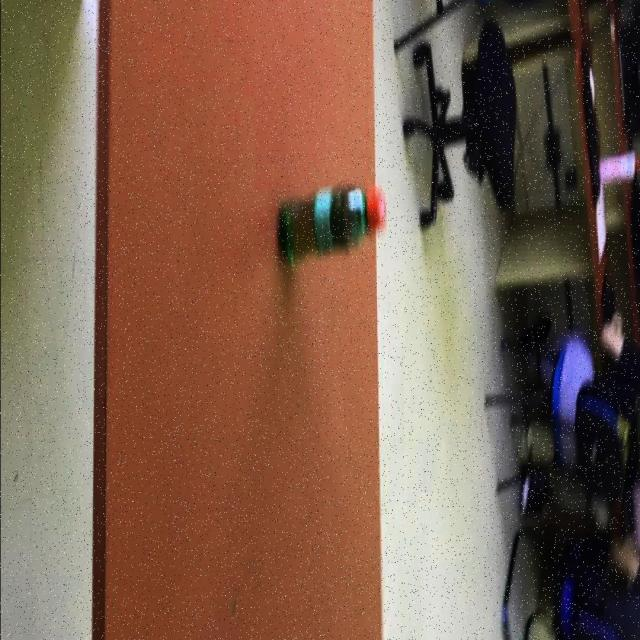Guarana: (278, 184, 387, 270)
